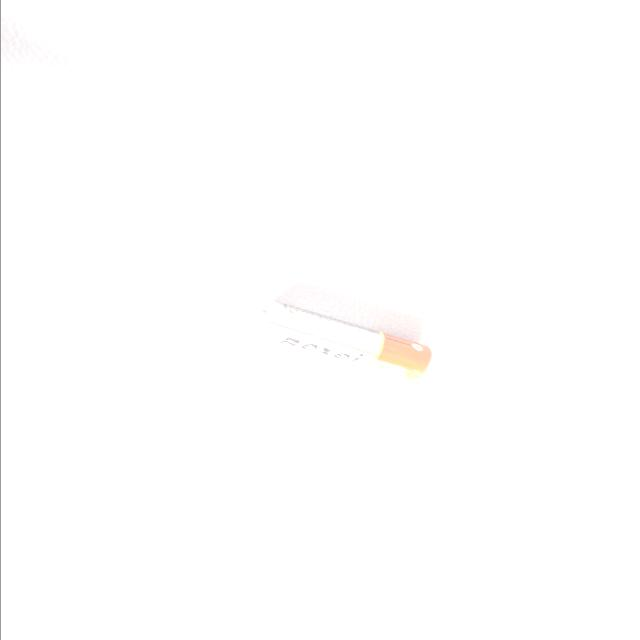AA: (187, 157, 293, 290)
